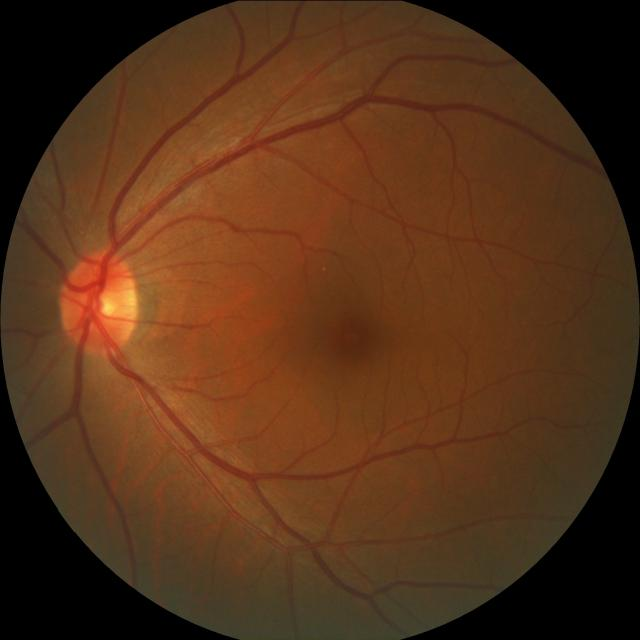OC: (83, 280, 120, 326)
OD: (62, 250, 142, 356)
